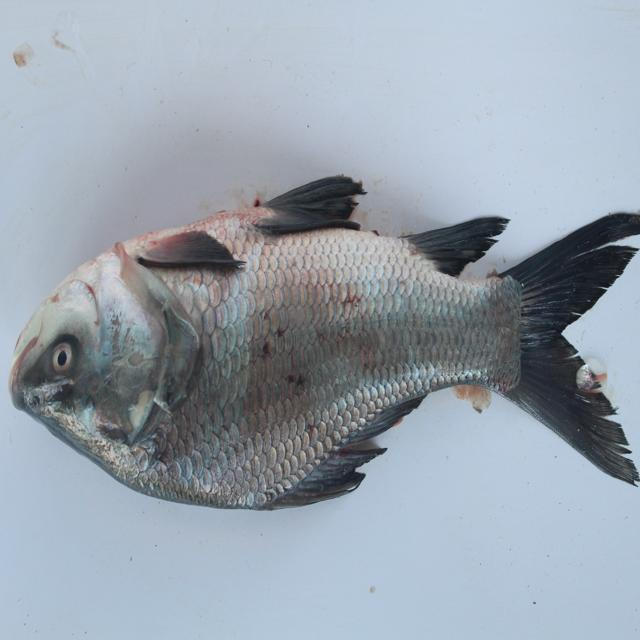Indian Carp: (9, 174, 640, 514)
